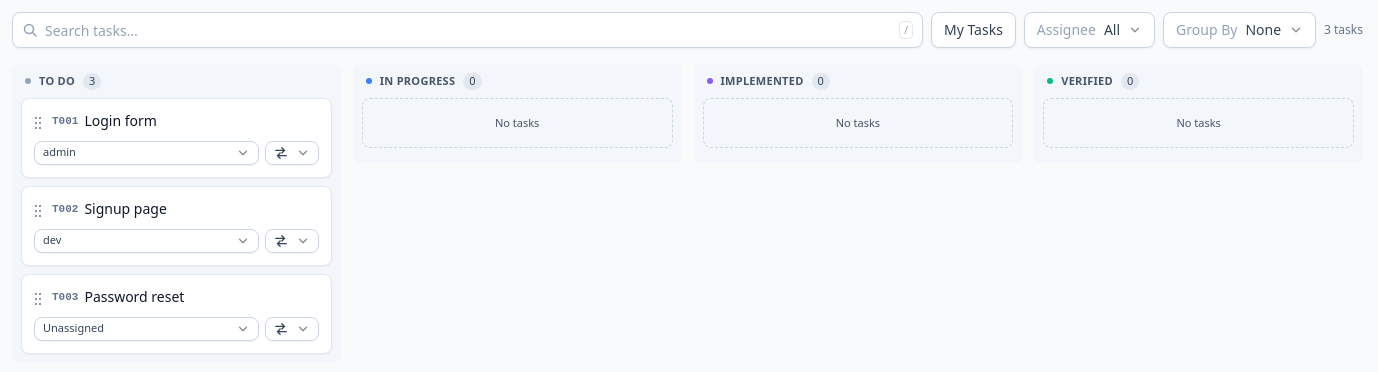
TaskBoard filters, lanes and drawer › narrows the cards to a search
expect the button "Login form" is shown: met, box [84,110,319,130]
Type "sign" into the search field labelled "Search tasks". click: (468, 30)
box: [12,12,923,48]
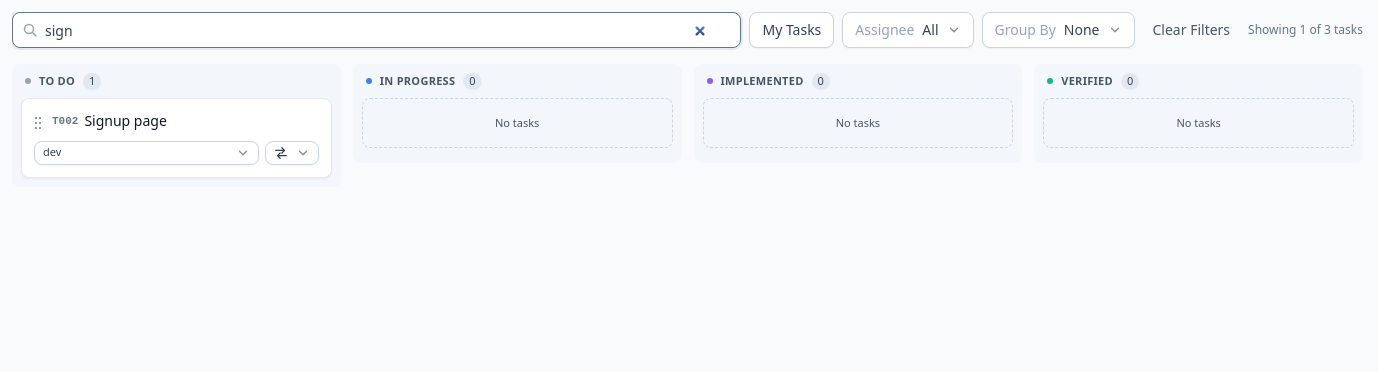
expect the text "Showing 1 of 3 tasks" is shown: met, box [1248,22,1363,38]
